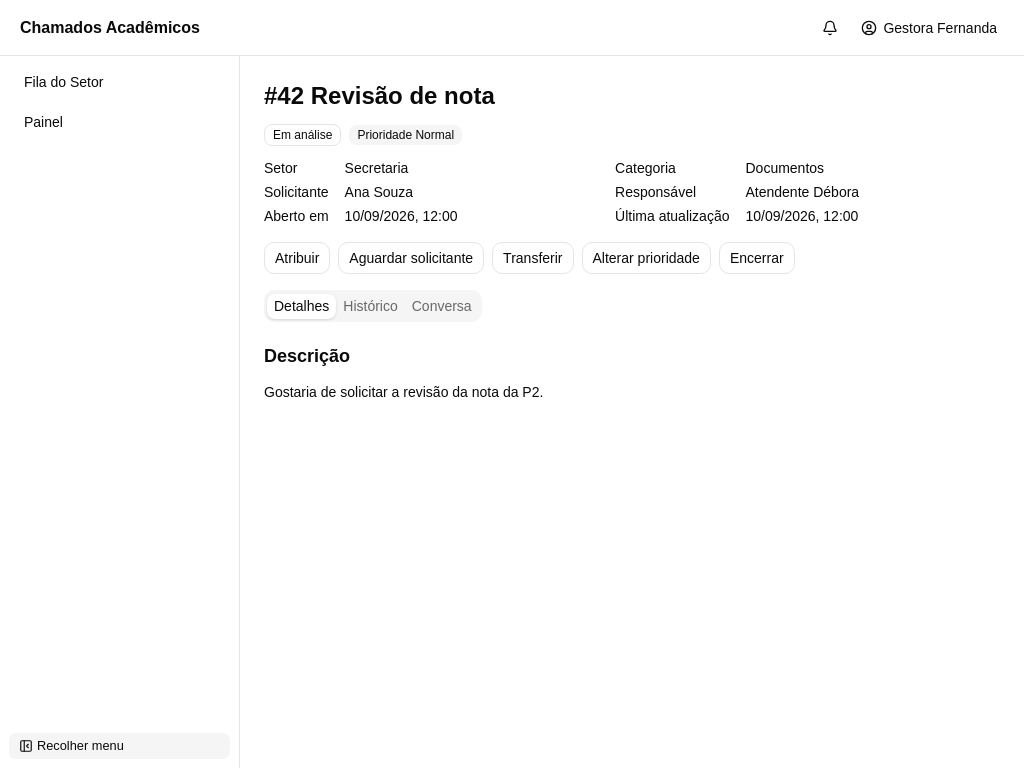
Test: AssignDialog (BR8.5, US3.1) › lists who may receive the ticket and marks the current assignee (AC3.1.1)
Expected: the heading "#42 Revisão de nota" is shown, top-left (264, 82), bottom-right (495, 109)
Step 1. Click the button with test id "ticket-actions-assign-button" → [297, 258], box top-left (264, 242), bottom-right (330, 274)
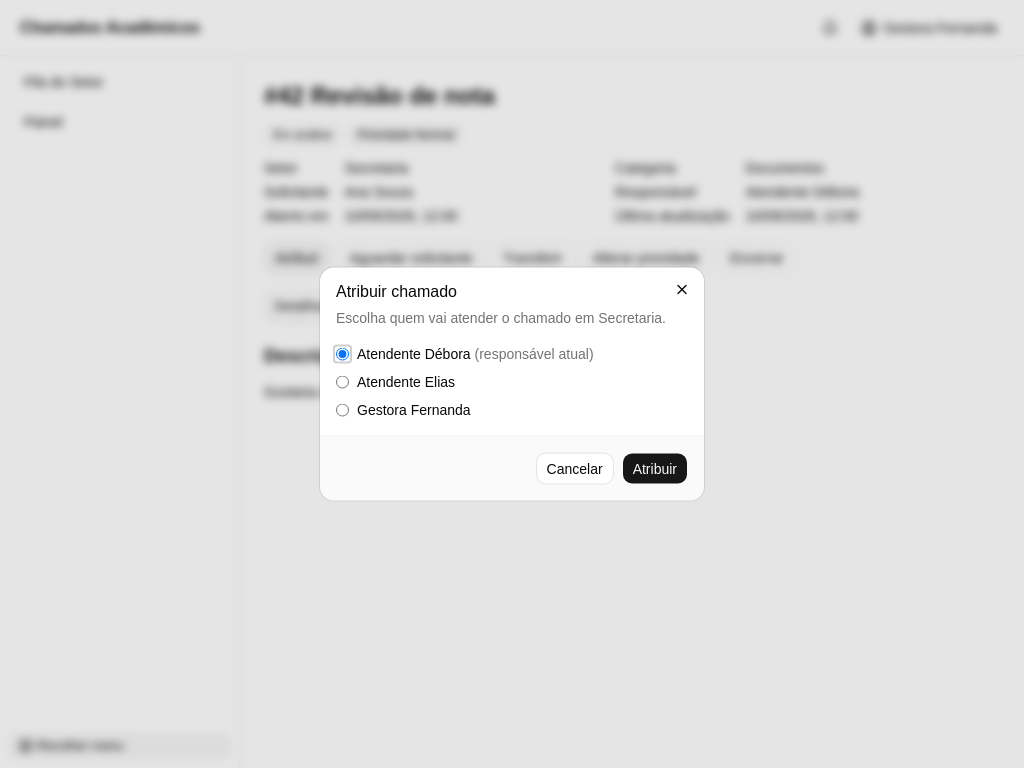
Expected: the text "Atendente Elias" is shown, top-left (357, 372), bottom-right (455, 392)
Expected: the text "(responsável atual)" is shown, top-left (471, 346), bottom-right (594, 362)
